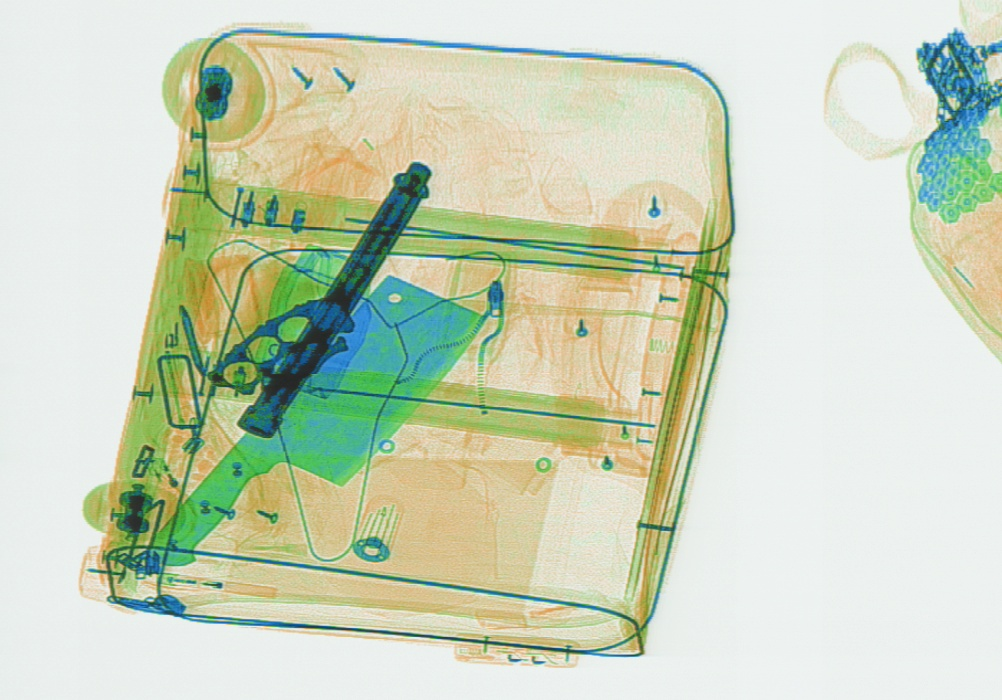knife: (145, 271, 489, 567)
lighter: (156, 571, 277, 598), (152, 454, 191, 513)
